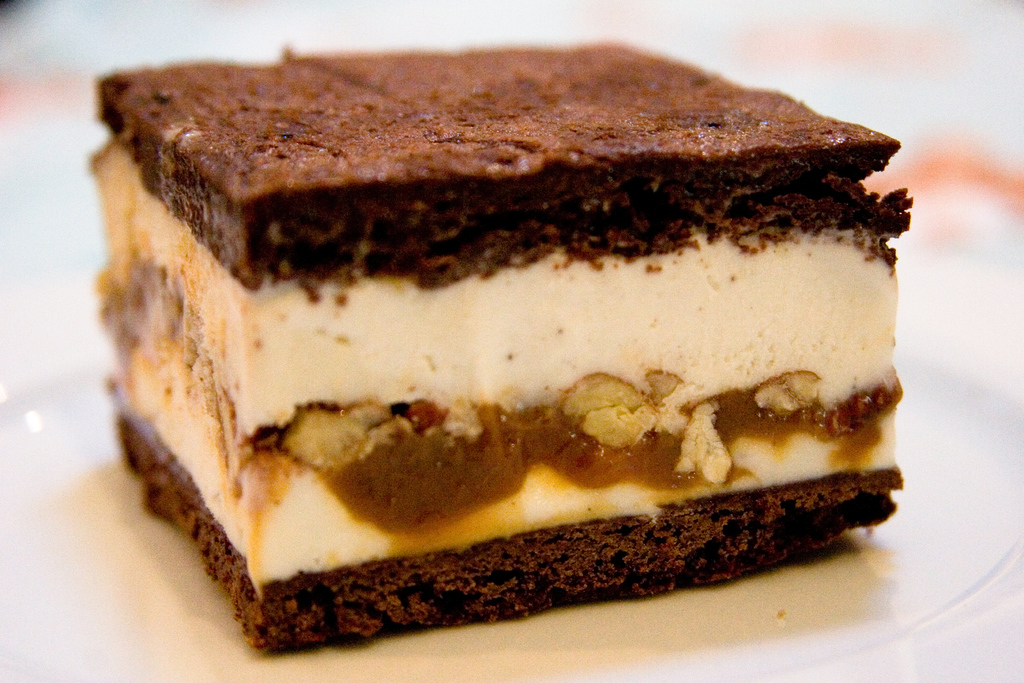cake: (89, 37, 913, 654)
